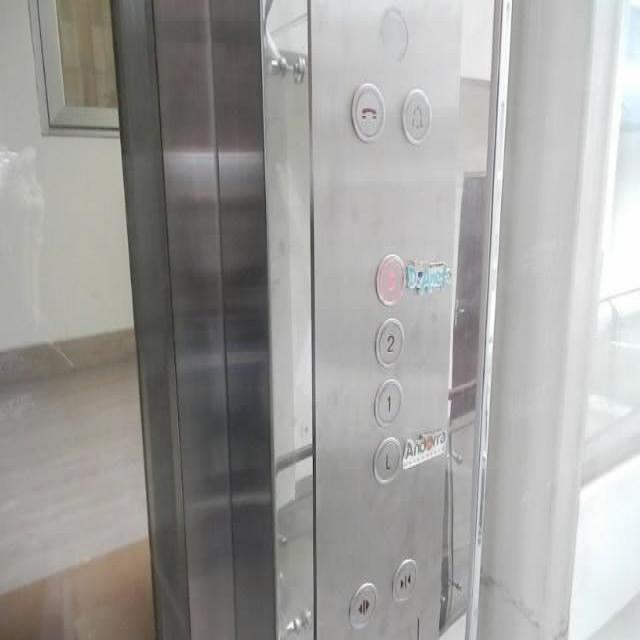1: (371, 375, 404, 428)
2: (372, 315, 406, 368)
L: (370, 434, 402, 486)
alarm: (397, 84, 434, 148)
blur: (375, 4, 410, 61), (373, 251, 406, 308)
call: (347, 77, 387, 147)
close: (389, 553, 418, 603)
open: (345, 579, 378, 629)
